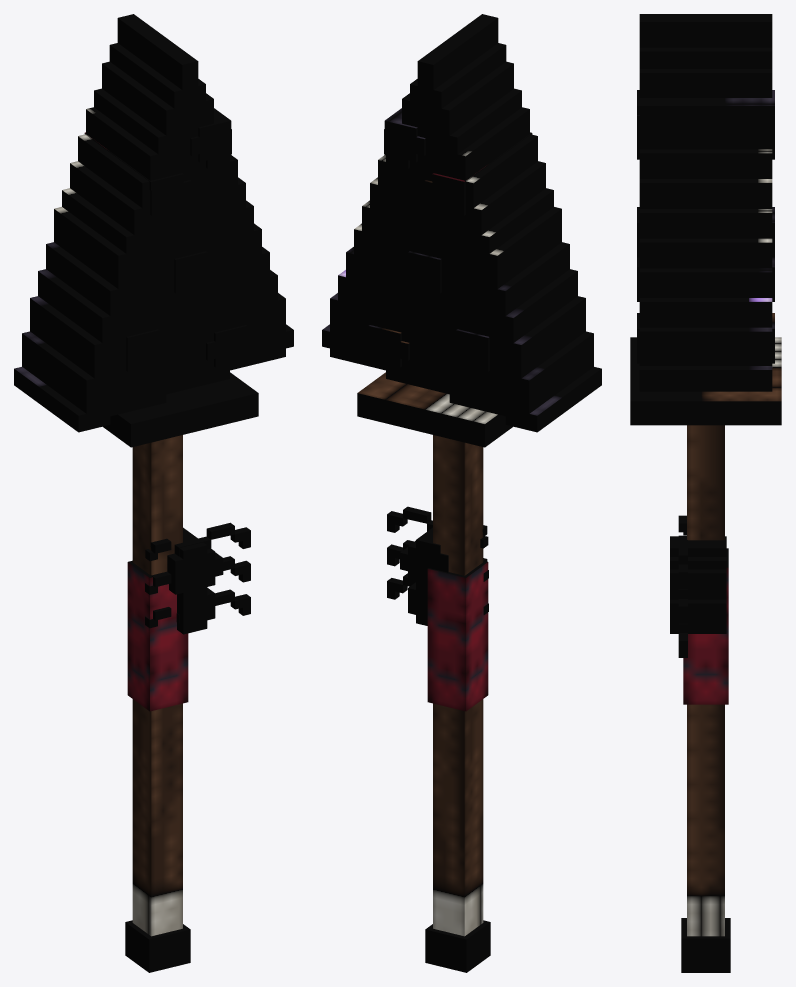
File: brood_distaff.obj
3 renders of one model, left to right at view 1: azimuth 30°, elevation 25°; view 2: azimuth 150°, elevation 25°; view 3: azimuth 270°, elevation 25°, orthographic. The views are drawn at different scales.
Parts seen in each view (by area): view 1: lit, fire; view 2: lit, fire; view 3: lit, fire.
Boxes of the visible parts, x1,y1,x2,y2 form: lit: (14, 14, 293, 972); fire: (84, 108, 247, 371); lit: (322, 14, 601, 972); fire: (368, 108, 532, 371); lit: (630, 14, 781, 972); fire: (637, 90, 774, 363).
Bounding box in the file's own units: 0.8438 × 3.44 × 0.5.
